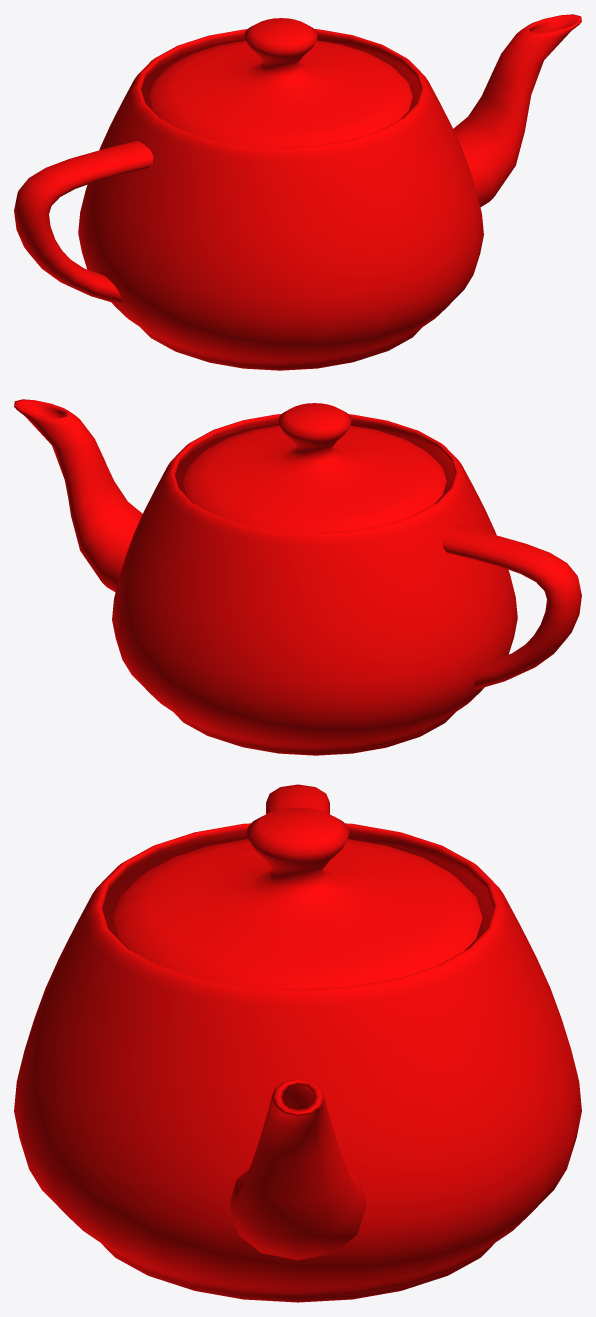
The model's file is Teapot.fbx.
3 renders of one model, top to bottom at view 1: azimuth 30°, elevation 25°; view 2: azimuth 150°, elevation 25°; view 3: azimuth 270°, elevation 25°, orthographic. The views are drawn at different scales.
Parts seen in each view (by area): view 1: Teapot001; view 2: Teapot001; view 3: Teapot001.
Boxes of the visible parts, x1=… form: Teapot001: x1=14, y1=14, x2=581, y2=370; Teapot001: x1=14, y1=399, x2=581, y2=755; Teapot001: x1=14, y1=784, x2=581, y2=1302.
Bounding box in the file's own units: 0.643 × 0.4 × 0.315.
